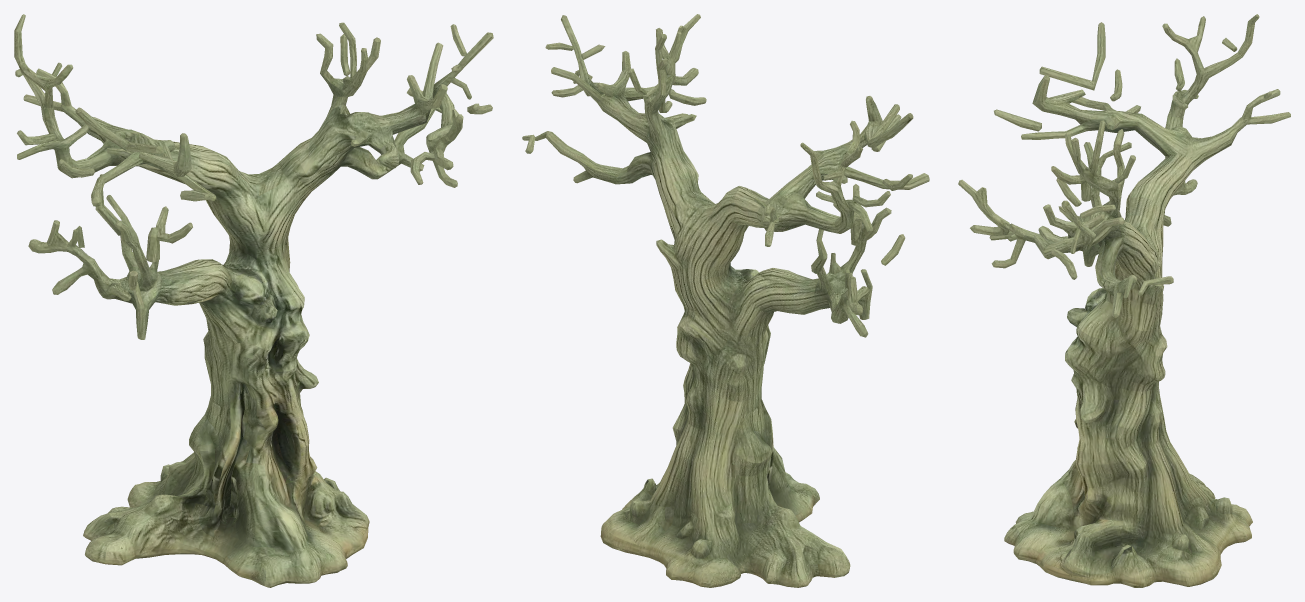
Rendered from tree_gnarled.glb.
3 views of the same model, side by side, from view 1: azimuth 30°, elevation 25°; view 2: azimuth 150°, elevation 25°; view 3: azimuth 270°, elevation 25° (orthographic). The views are drawn at different scales.
Bounding box in the file's own units: 1.65 × 1.91 × 1.24.
Materials: 1 (1 with a texture image).
